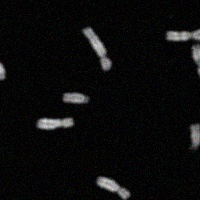chromosome: (82, 26, 112, 71), (96, 174, 130, 199), (165, 28, 200, 42), (37, 117, 74, 130), (184, 123, 200, 153), (63, 90, 90, 105), (190, 44, 200, 78), (0, 46, 7, 80)
